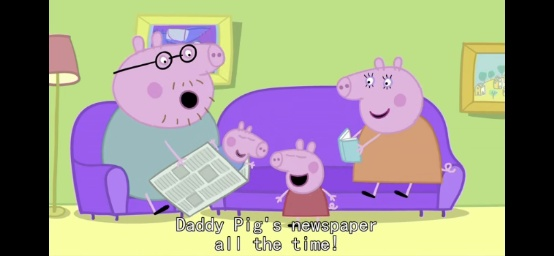Peppa: (269, 139, 339, 222)
